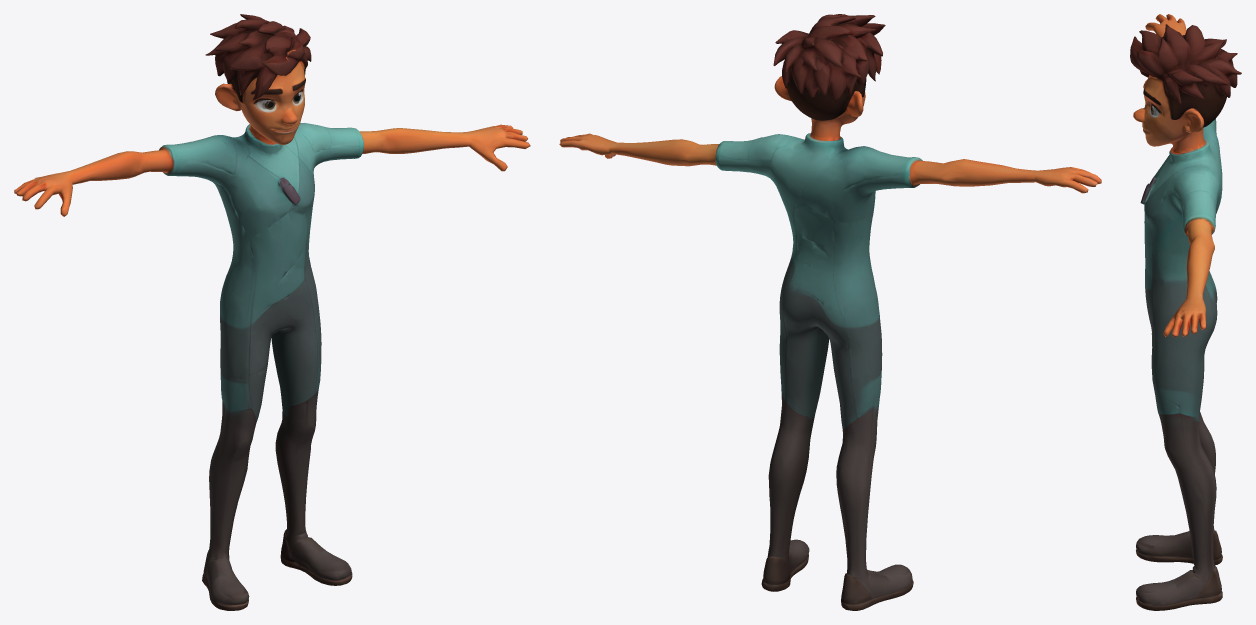
Rendered from neutral-wetsuit-base-v2-HAIR-unrigged.glb.
3 renders of one model, left to right at view 1: azimuth 30°, elevation 25°; view 2: azimuth 150°, elevation 25°; view 3: azimuth 270°, elevation 25°, orthographic. The views are drawn at different scales.
Visible parts, largest first — view 1: tripo_node_99df22cf-ac75-4d2a-8e2c-ec2d6dcedeb4; view 2: tripo_node_99df22cf-ac75-4d2a-8e2c-ec2d6dcedeb4; view 3: tripo_node_99df22cf-ac75-4d2a-8e2c-ec2d6dcedeb4.
Part boxes in pixels (x1=…): tripo_node_99df22cf-ac75-4d2a-8e2c-ec2d6dcedeb4: x1=14, y1=14, x2=530, y2=610; tripo_node_99df22cf-ac75-4d2a-8e2c-ec2d6dcedeb4: x1=559, y1=14, x2=1101, y2=610; tripo_node_99df22cf-ac75-4d2a-8e2c-ec2d6dcedeb4: x1=1130, y1=14, x2=1241, y2=610.
Bounding box in the file's own units: 0.9481 × 0.981 × 0.1823.
1 material, 1 textured.
